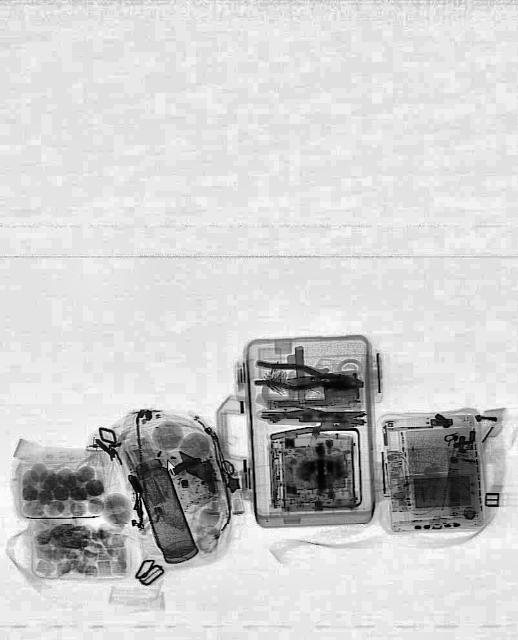Pliers: (253, 358, 365, 397)
